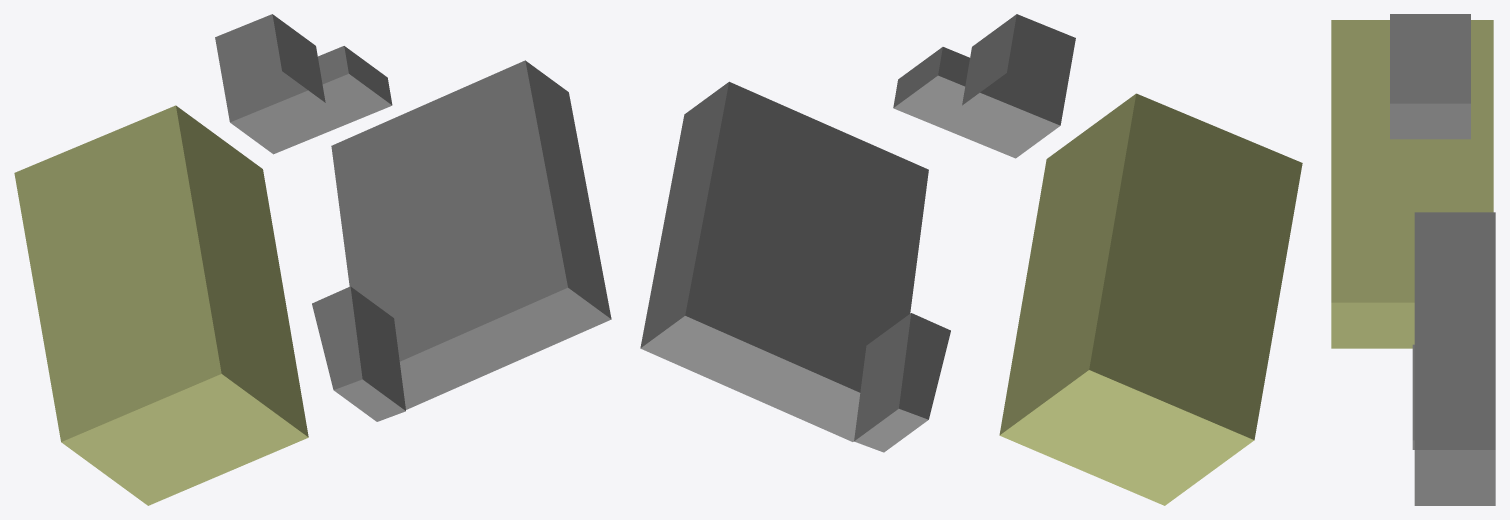
3 renders of one model, left to right at view 1: azimuth 30°, elevation 25°; view 2: azimuth 150°, elevation 25°; view 3: azimuth 270°, elevation 25°, orthographic. The views are drawn at different scales.
Parts seen in each view (by area): view 1: 0_1_2_0_1_3_3_0_2_0; view 2: 0_1_2_0_1_3_3_0_2_0; view 3: 0_1_2_0_1_3_3_0_2_0.
Part boxes in pixels (<box>): 0_1_2_0_1_3_3_0_2_0: <box>14,14,611,505</box>; 0_1_2_0_1_3_3_0_2_0: <box>640,14,1302,505</box>; 0_1_2_0_1_3_3_0_2_0: <box>1331,14,1495,505</box>.
Bounding box in the file's own units: 22.06 × 15.31 × 6.08.
